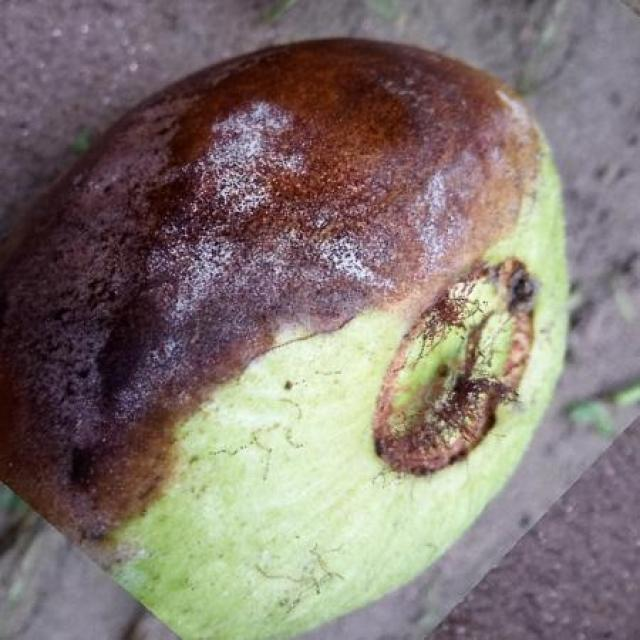Styler and Root: (0, 39, 568, 640)
